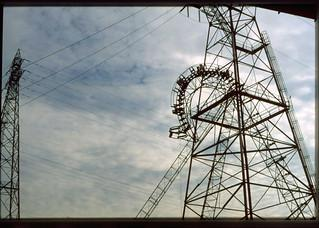power_tower: (0, 43, 34, 221)
